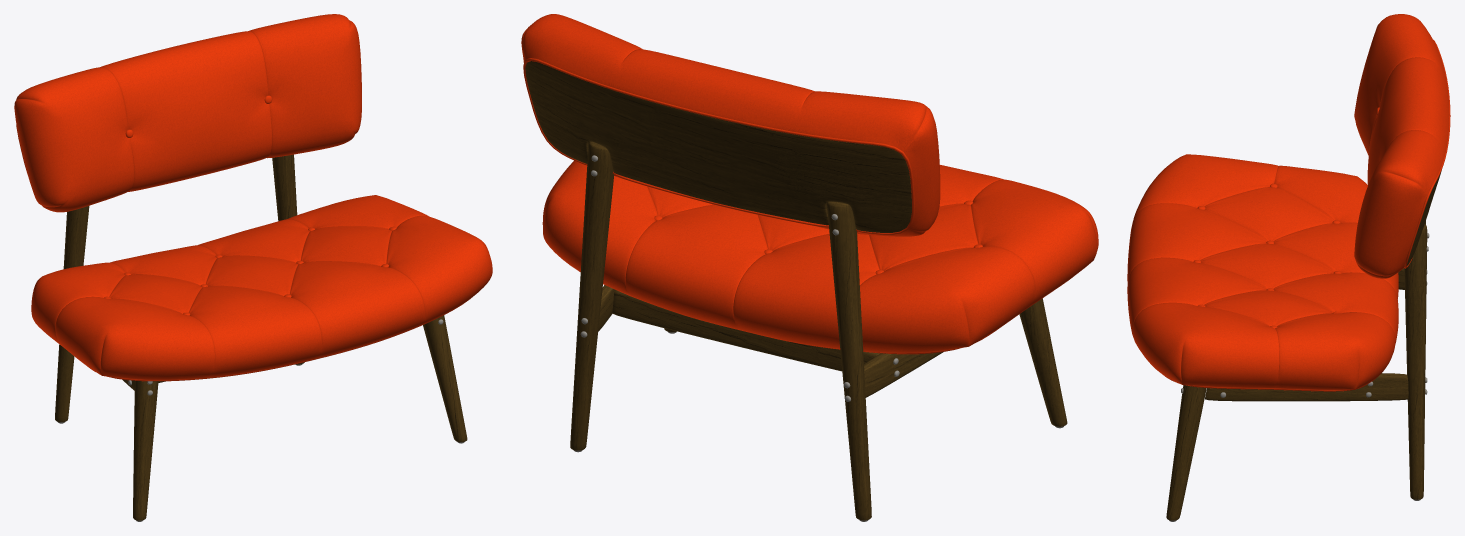
File: SheenChair.glb
The picture shows the model from 3 angles, left to right: view 1: azimuth 30°, elevation 25°; view 2: azimuth 150°, elevation 25°; view 3: azimuth 270°, elevation 25°; orthographic projection. The views are drawn at different scales.
Visible parts, largest first — view 1: SheenChair_fabric, SheenChair_wood; view 2: SheenChair_fabric, SheenChair_wood; view 3: SheenChair_fabric, SheenChair_wood.
Part boxes in pixels (box(x1,y1,x2,y2)): SheenChair_fabric: box(14, 14, 492, 381); SheenChair_wood: box(55, 154, 467, 520); SheenChair_fabric: box(521, 14, 1098, 354); SheenChair_wood: box(525, 61, 1067, 520); SheenChair_fabric: box(1127, 14, 1450, 391); SheenChair_wood: box(1166, 170, 1441, 520).
Size of the model in its own units: 0.8266 by 0.6863 by 0.5702.
4 materials, 3 textured.
